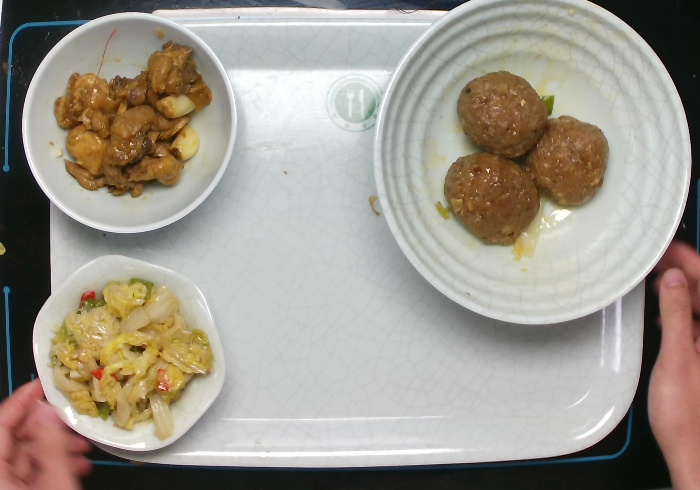JYsf-Da_Tang_Wan: (368, 1, 694, 329)
JYsf-Fan_Wan: (18, 9, 241, 237)
WCQzf-Hua_Duo_Wan: (29, 251, 229, 455)
